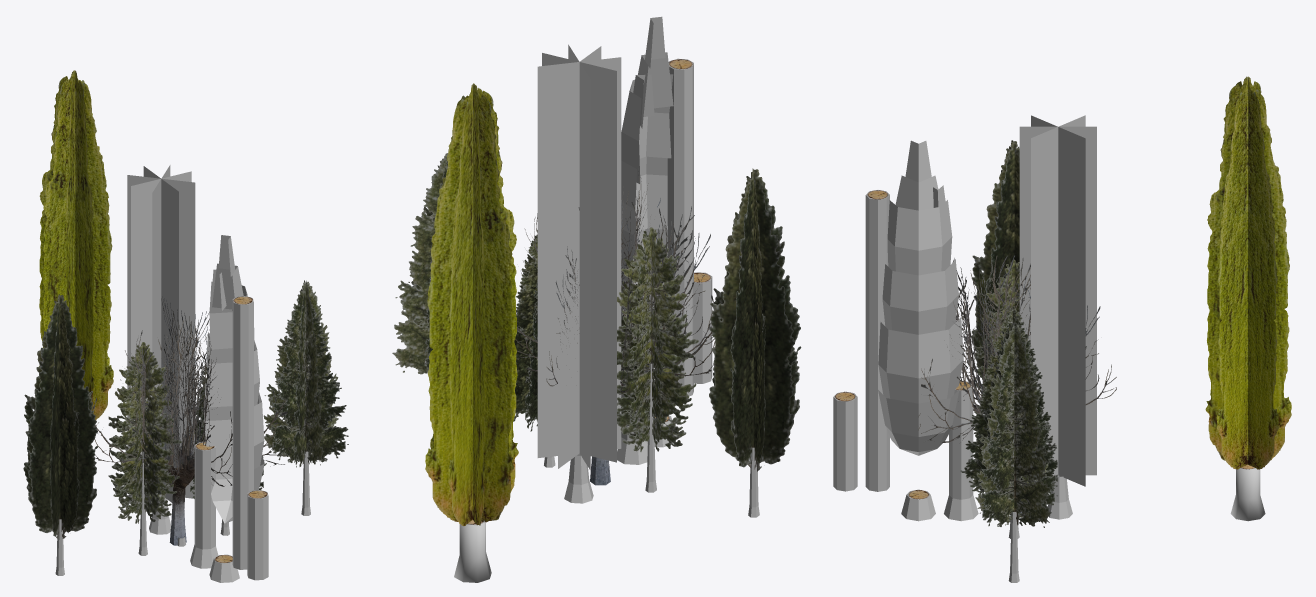
Rendered from Arbol02-coleccion.fbx.
The picture shows the model from 3 angles, left to right: view 1: azimuth 30°, elevation 25°; view 2: azimuth 150°, elevation 25°; view 3: azimuth 270°, elevation 25°; orthographic projection. The views are drawn at different scales.
Visible parts, largest first — view 1: Arbol Visual, arbol02 B, arbol02 A, arbol02 D, ArbolVisual, Arbol3, TrocoCortadoGrande, Arbol2.003, Arbol2, Arbol2.002, Troco3, TroncoCortadoMediano (+3 smaller); view 2: Arbol Visual, arbol02 B, arbol02 D, Arbol2.002, Arbol2.001, Arbol3, Arbol2, TrocoCortadoGrande, Arbol2.003, arbol02 A, ArbolVisual, arbol02 C (+3 smaller); view 3: Arbol Visual, Arbol3, arbol02 A, Arbol2.001, Arbol2.003, Arbol2, TrocoCortadoGrande, ArbolVisual, arbol02 B, Troco3, arbol02 C, TroncoCortadoMediano (+3 smaller).
Boxes of the visible parts, left/top/right/bottom form: Arbol Visual: left=39, top=70, right=113, bottom=420; arbol02 B: left=23, top=294, right=97, bottom=575; arbol02 A: left=263, top=280, right=348, bottom=515; arbol02 D: left=108, top=342, right=181, bottom=555; ArbolVisual: left=91, top=296, right=291, bottom=530; Arbol3: left=204, top=235, right=264, bottom=523; TrocoCortadoGrande: left=232, top=296, right=253, bottom=569; Arbol2.003: left=127, top=175, right=195, bottom=498; Arbol2: left=143, top=166, right=178, bottom=502; Arbol2.002: left=131, top=171, right=191, bottom=496; Troco3: left=190, top=441, right=218, bottom=568; TroncoCortadoMediano: left=247, top=490, right=268, bottom=580; Arbol Visual: left=425, top=83, right=518, bottom=582; arbol02 B: left=709, top=168, right=801, bottom=517; arbol02 D: left=617, top=227, right=698, bottom=492; Arbol2.002: left=542, top=53, right=616, bottom=462; Arbol2.001: left=537, top=57, right=621, bottom=457; Arbol3: left=621, top=16, right=673, bottom=368; Arbol2: left=558, top=46, right=601, bottom=468; TrocoCortadoGrande: left=667, top=58, right=693, bottom=396; Arbol2.003: left=568, top=44, right=590, bottom=470; arbol02 A: left=392, top=153, right=447, bottom=374; ArbolVisual: left=515, top=168, right=715, bottom=466; arbol02 C: left=513, top=230, right=555, bottom=467; Arbol Visual: left=1205, top=76, right=1291, bottom=521; Arbol3: left=878, top=140, right=963, bottom=455; arbol02 A: left=975, top=323, right=1057, bottom=582; Arbol2.001: left=1031, top=115, right=1085, bottom=486; Arbol2.003: left=1031, top=115, right=1085, bottom=475; Arbol2: left=1019, top=126, right=1096, bottom=475; TrocoCortadoGrande: left=865, top=190, right=889, bottom=491; ArbolVisual: left=918, top=255, right=1116, bottom=443; arbol02 B: left=971, top=140, right=1019, bottom=379; Troco3: left=944, top=381, right=978, bottom=521; arbol02 C: left=960, top=306, right=1057, bottom=538; TroncoCortadoMediano: left=833, top=391, right=857, bottom=491.
Bounding box in the file's own units: 1629 × 2076 × 1846.
